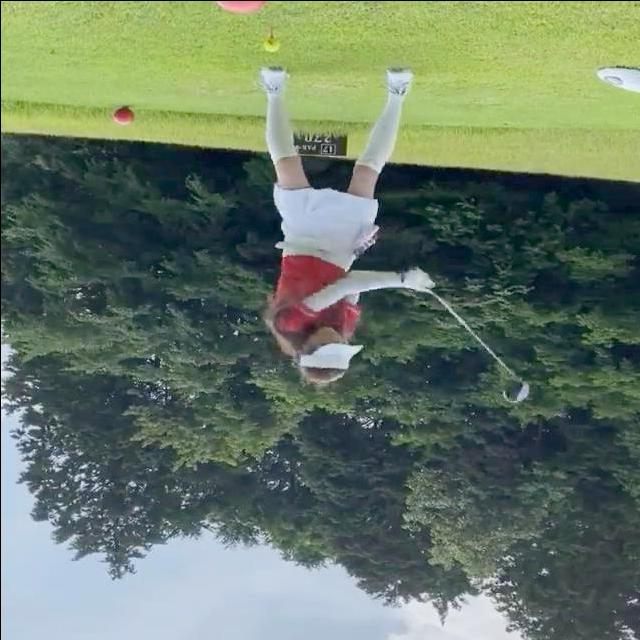golf ball: (264, 37, 280, 51)
golf club-handle: (431, 290, 528, 401)
golf club-head: (499, 378, 528, 400)
